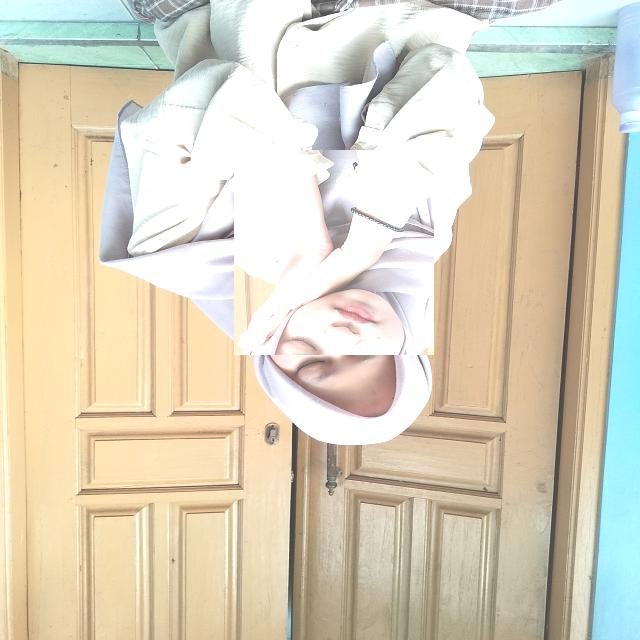tidur: (234, 150, 434, 355)
